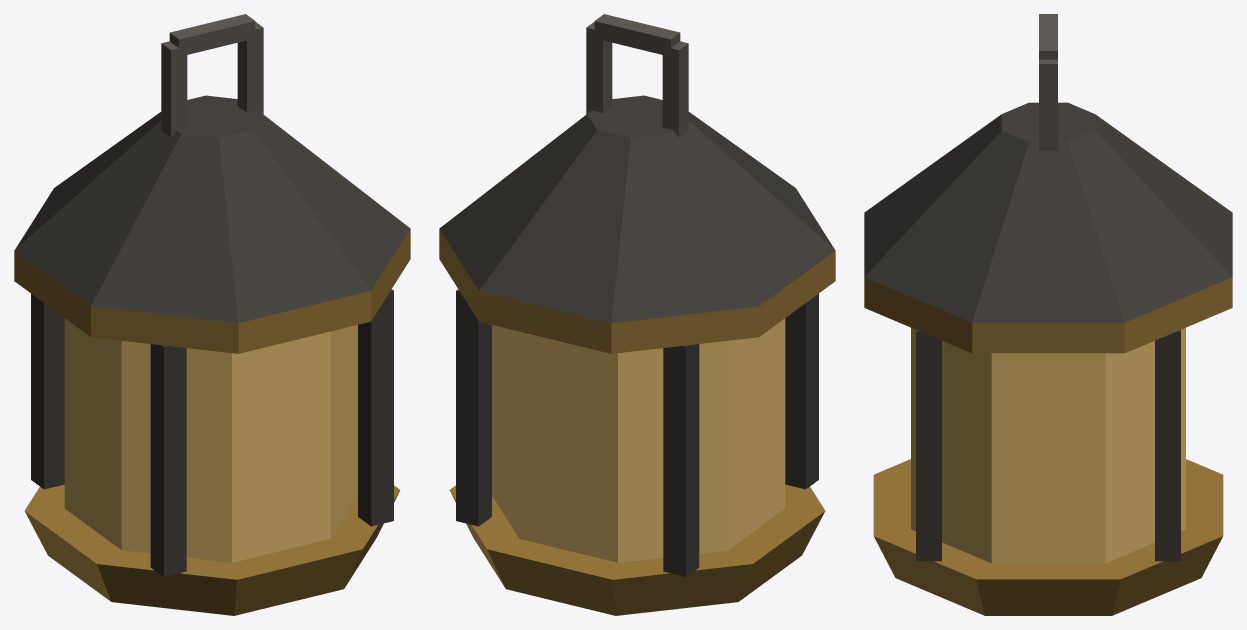
File: mine-lantern.glb
3 views of the same model, side by side, from view 1: azimuth 30°, elevation 25°; view 2: azimuth 150°, elevation 25°; view 3: azimuth 270°, elevation 25° (orthographic).
Parts seen in each view (by area): view 1: mine_lantern; view 2: mine_lantern; view 3: mine_lantern.
Boxes of the visible parts, box(x1,y1,x2,y2) form: mine_lantern: box(14, 14, 410, 615); mine_lantern: box(439, 14, 835, 615); mine_lantern: box(864, 14, 1232, 615).
Bounding box in the file's own units: 0.218 × 0.3557 × 0.218.
